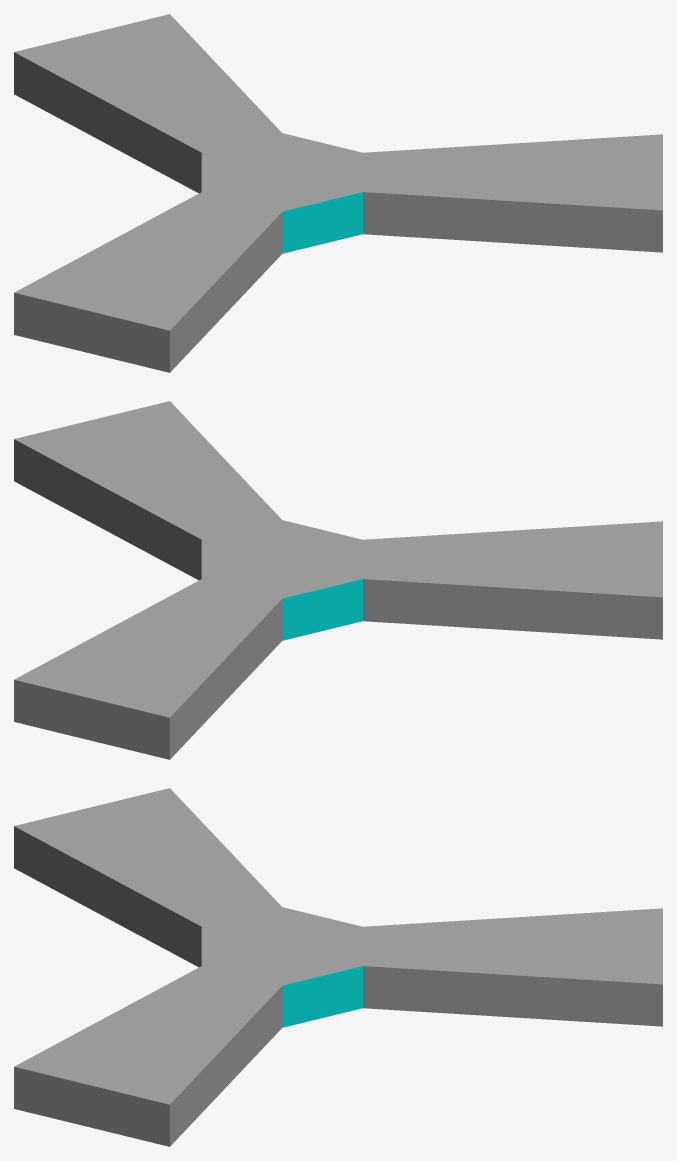
Rendered from wheel 1.fbx.
The picture shows the model from 3 angles, top to bottom: view 1: azimuth 30°, elevation 25°; view 2: azimuth 150°, elevation 25°; view 3: azimuth 270°, elevation 25°; orthographic projection.
Parts seen in each view (by area): view 1: pCylinder1; view 2: pCylinder1; view 3: pCylinder1.
Part boxes in pixels (left/top/right/bottom): pCylinder1: left=14, top=14, right=662, bottom=372; pCylinder1: left=14, top=401, right=662, bottom=759; pCylinder1: left=14, top=788, right=662, bottom=1146.
Size of the model in its own units: 18.26 by 1.13 by 15.81.
